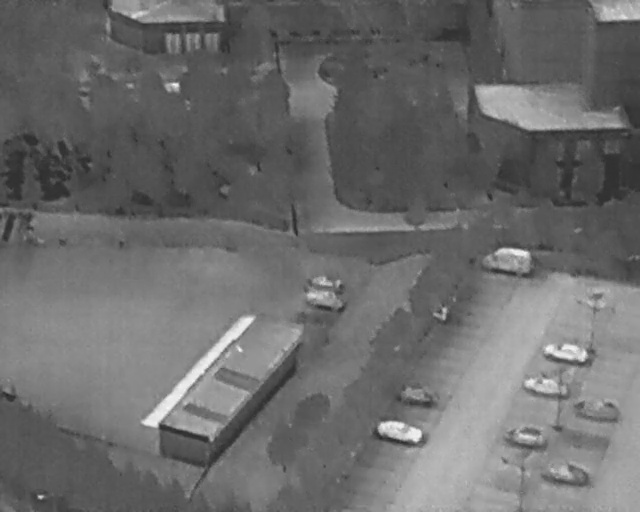Car: (481, 242, 534, 278), (544, 456, 593, 490), (574, 395, 622, 426), (540, 338, 591, 366), (375, 417, 423, 446), (301, 284, 347, 312), (523, 371, 570, 398), (505, 420, 547, 449)
